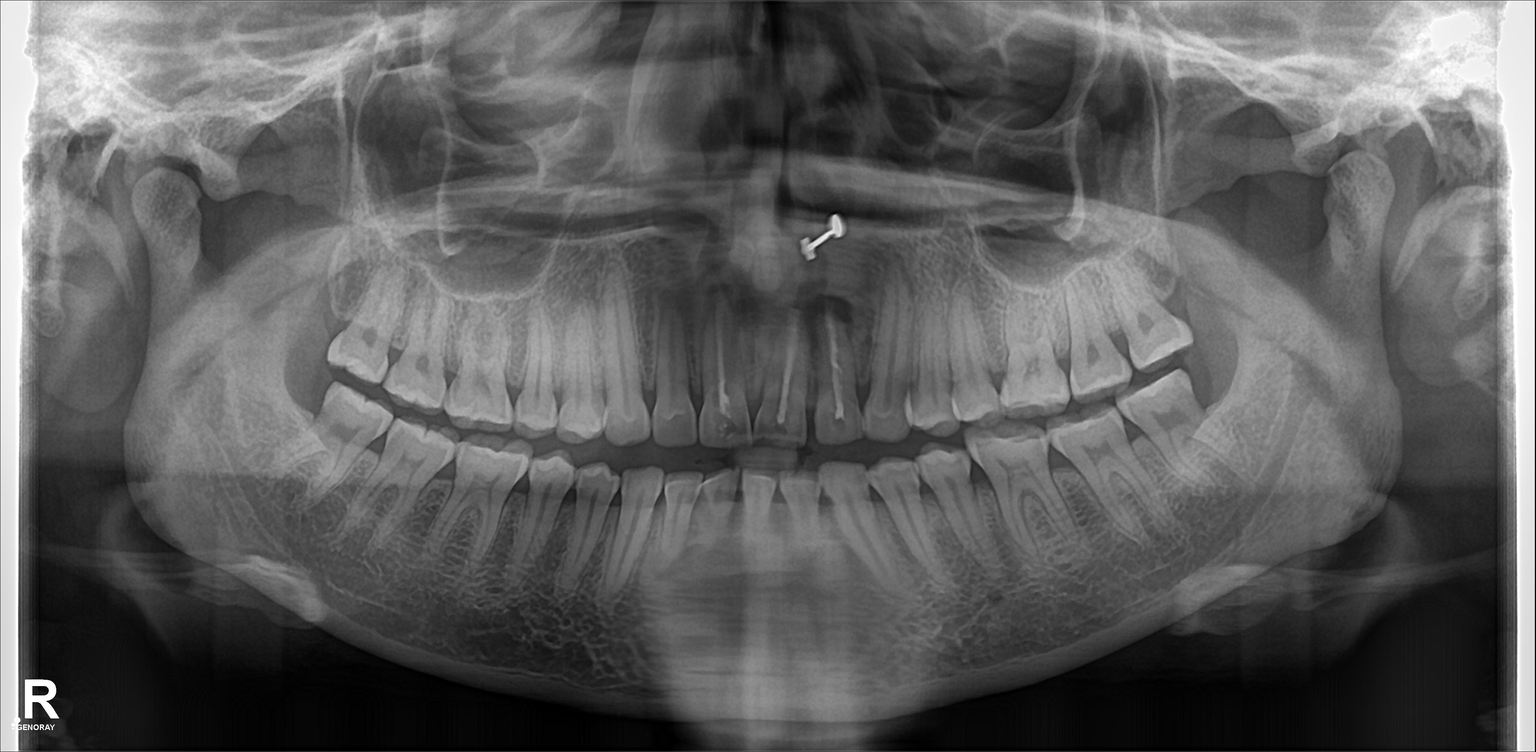Endodontically Treated Tooth: (752, 307, 800, 445), (704, 307, 745, 447), (819, 307, 863, 436)
